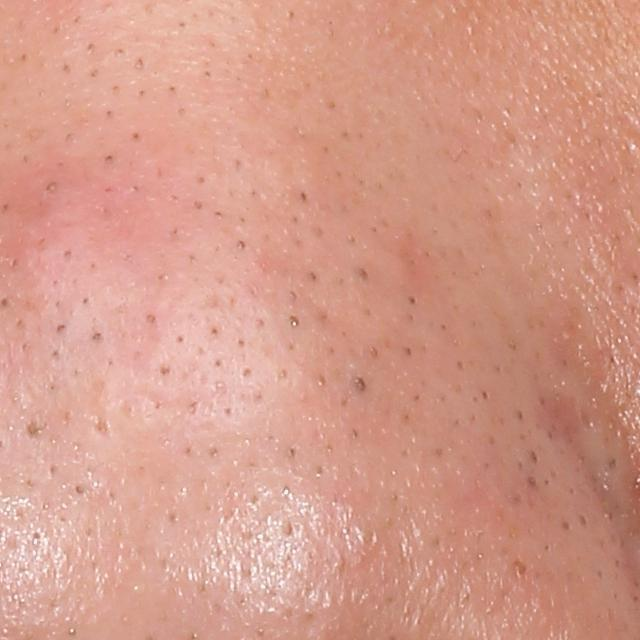comedo: (346, 374, 372, 395), (284, 312, 304, 334), (41, 177, 62, 196), (558, 515, 572, 535)
hypertrophic_scar: (156, 276, 333, 415), (1, 189, 157, 335)
